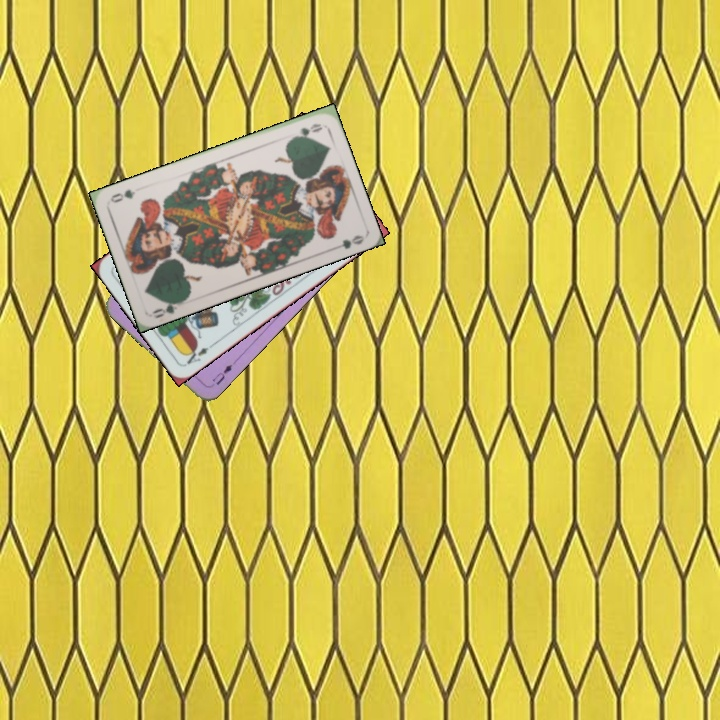EA: (181, 339, 217, 368)
EU: (208, 360, 235, 388)
GO: (148, 296, 187, 321), (286, 119, 325, 143)
